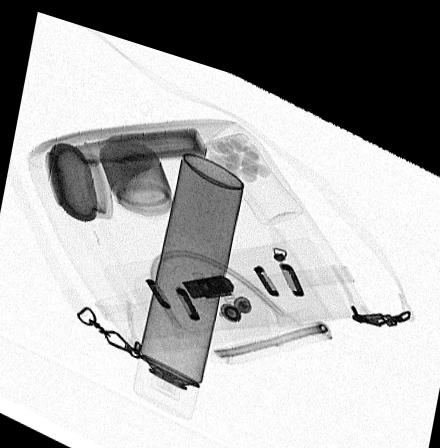Sprayer: (132, 141, 242, 405)
